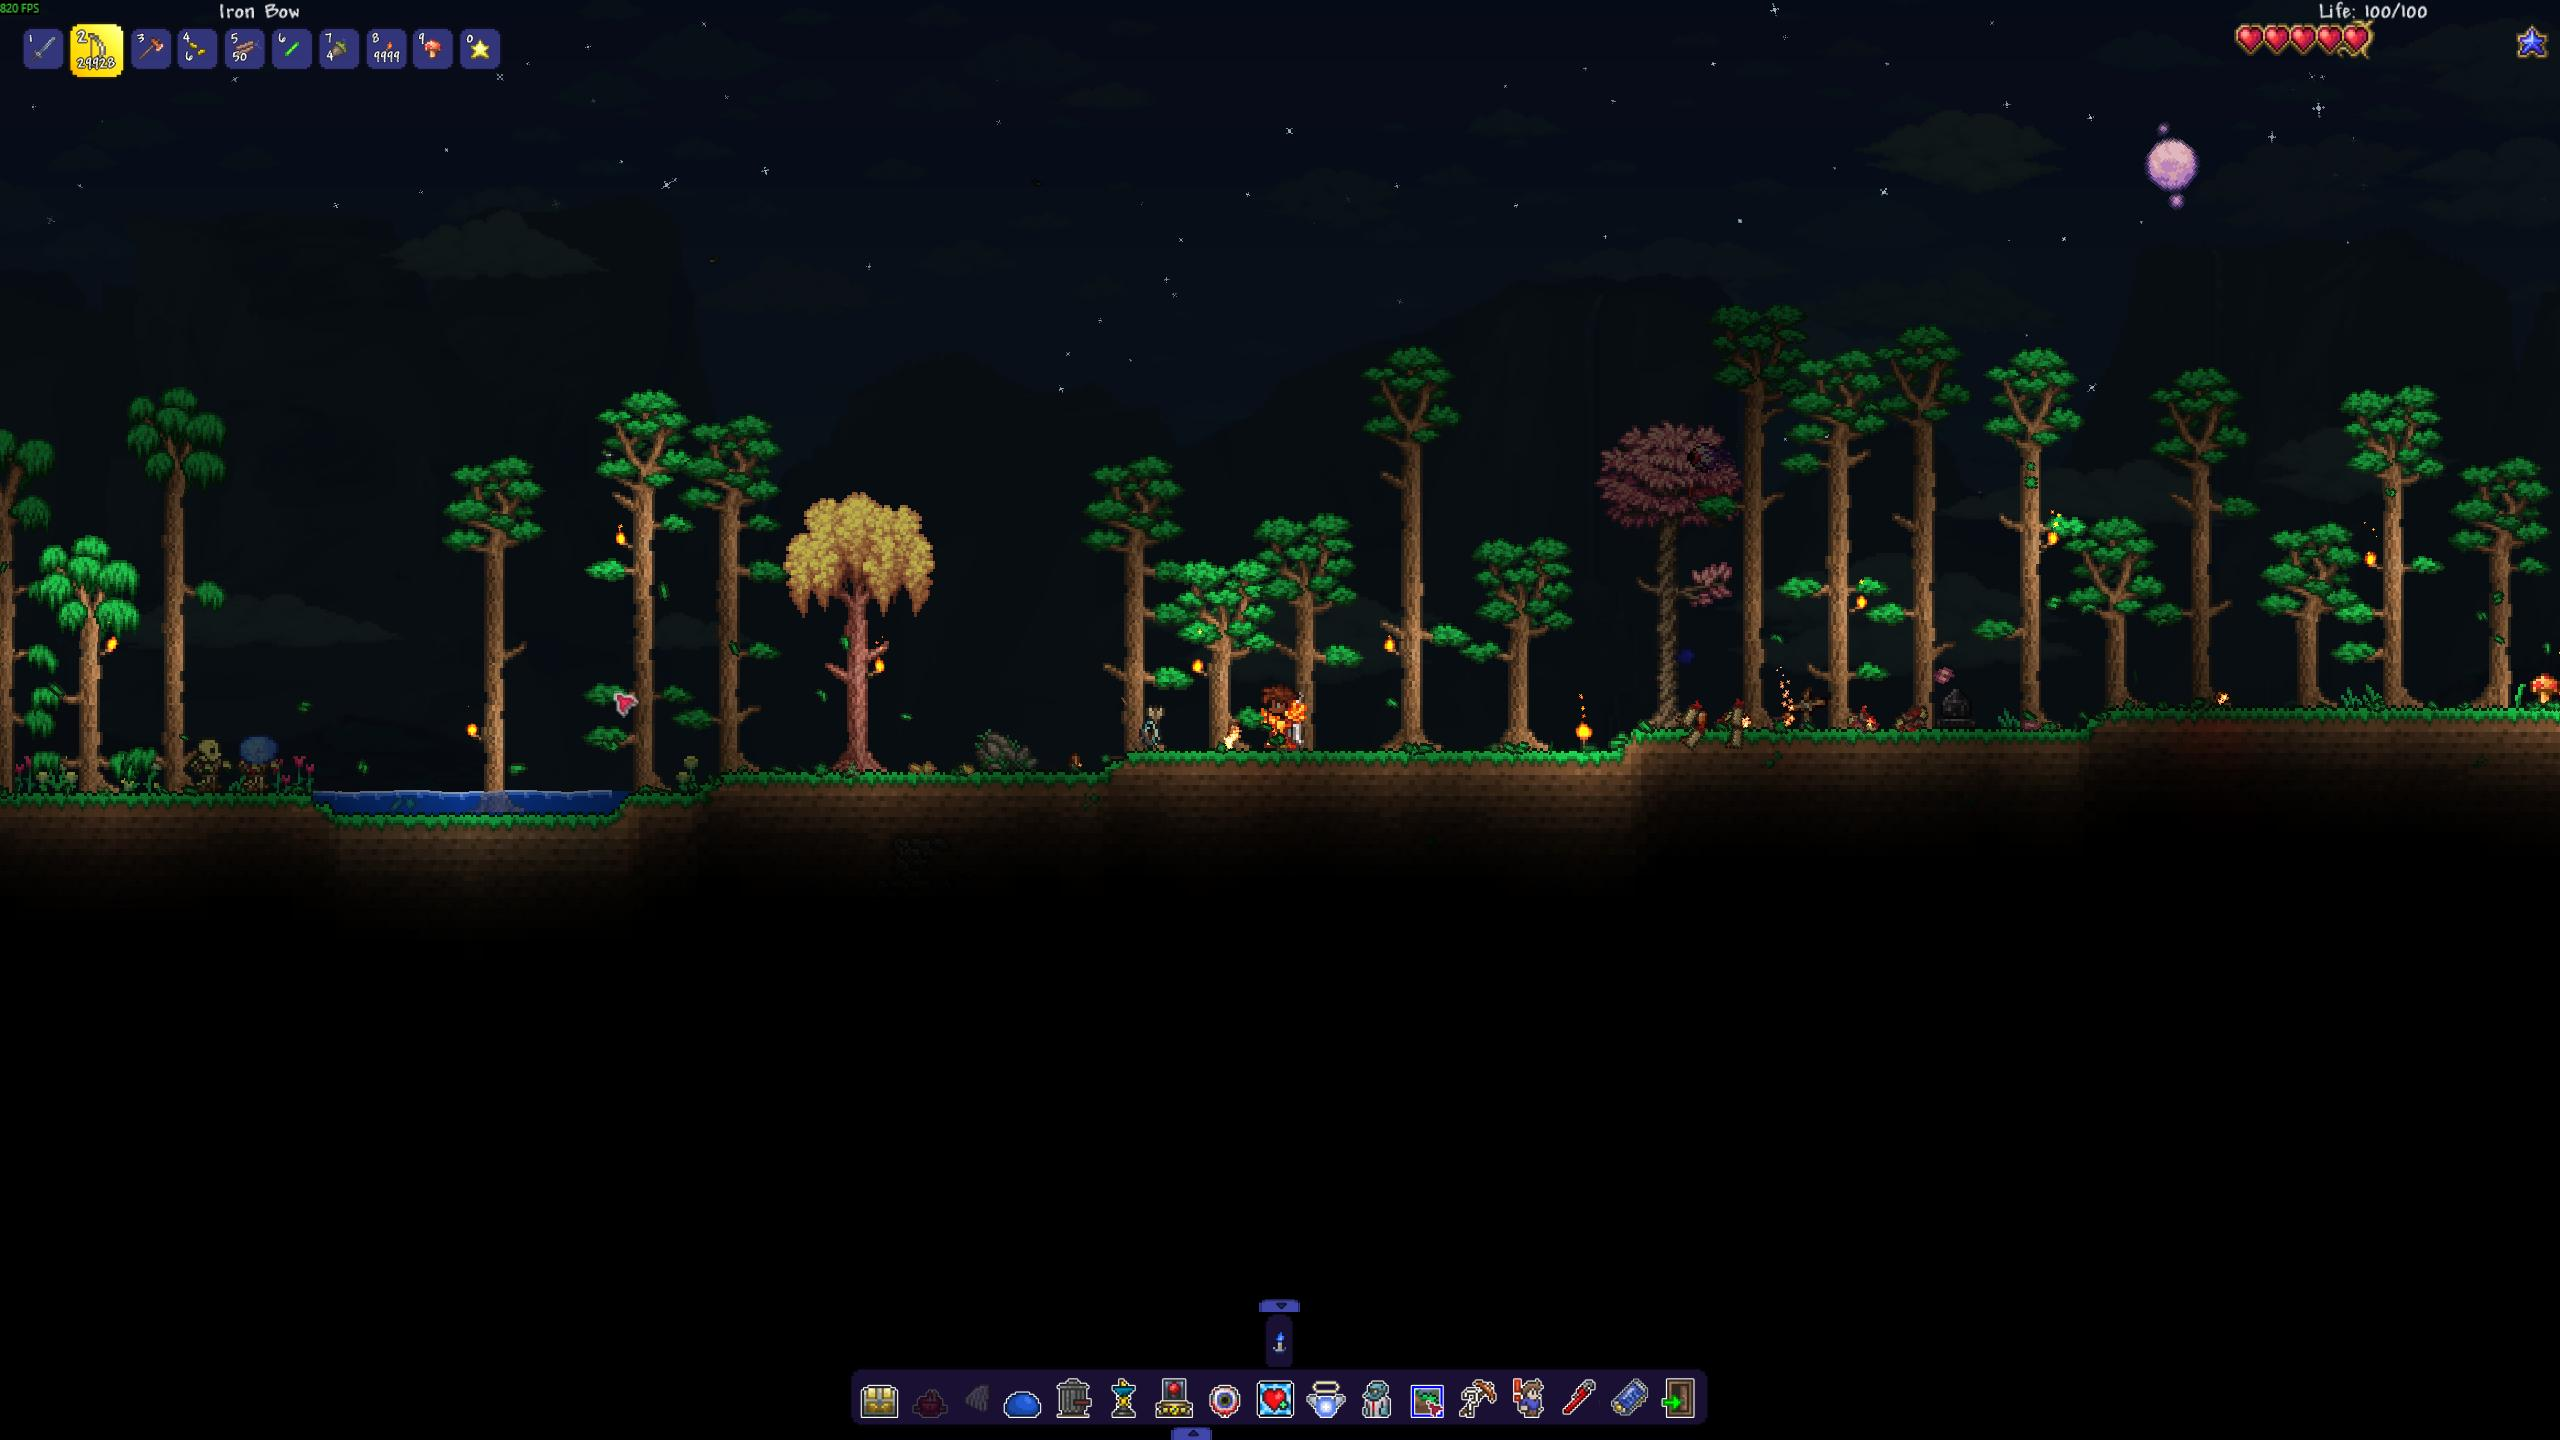Demon Eye: (1683, 440, 1742, 476)
Zombie: (236, 733, 288, 796), (181, 735, 234, 796)
